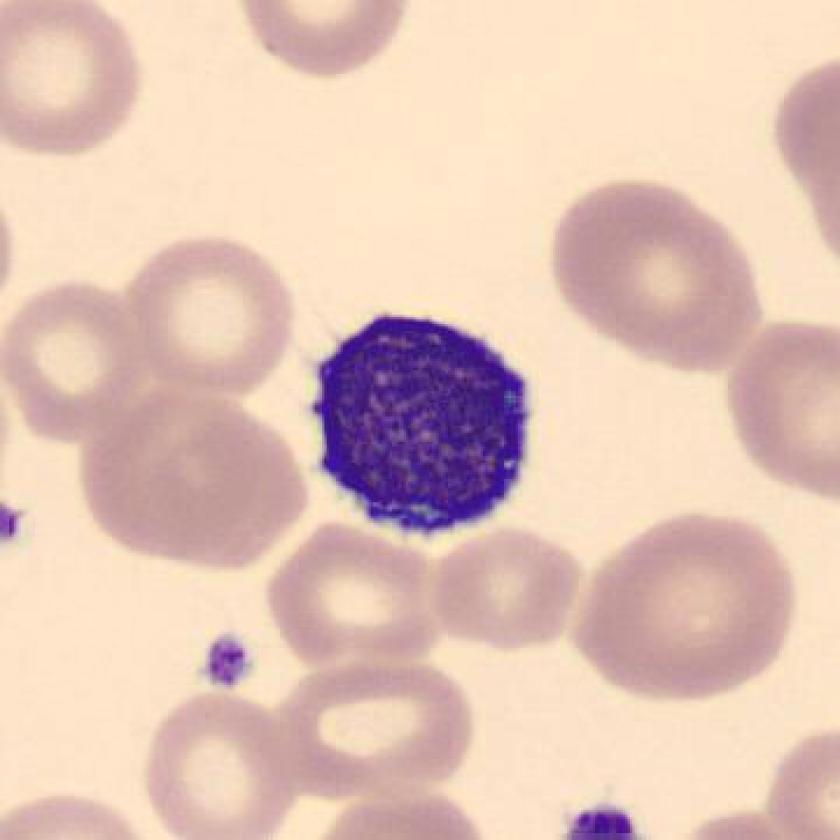lymphocyte: (293, 295, 552, 556)
platelets: (202, 630, 254, 698), (560, 797, 638, 840)
